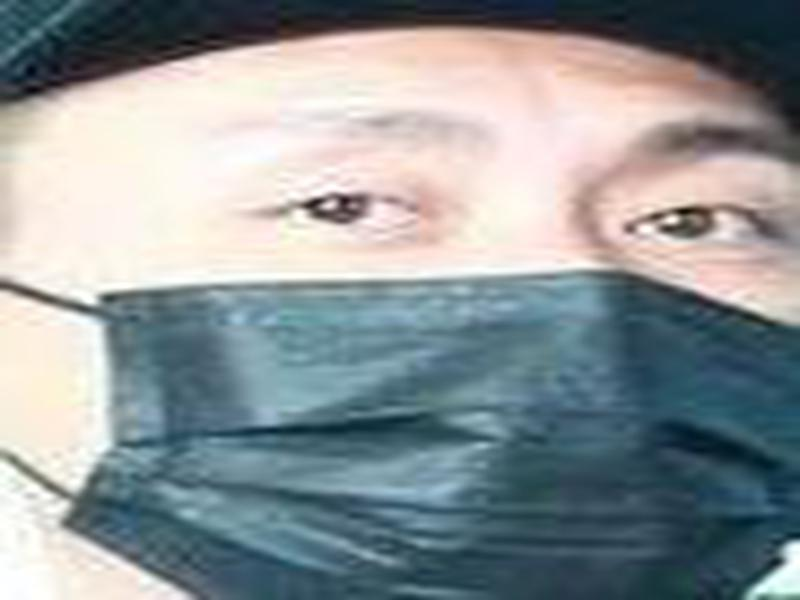with_mask: (7, 8, 800, 600)
